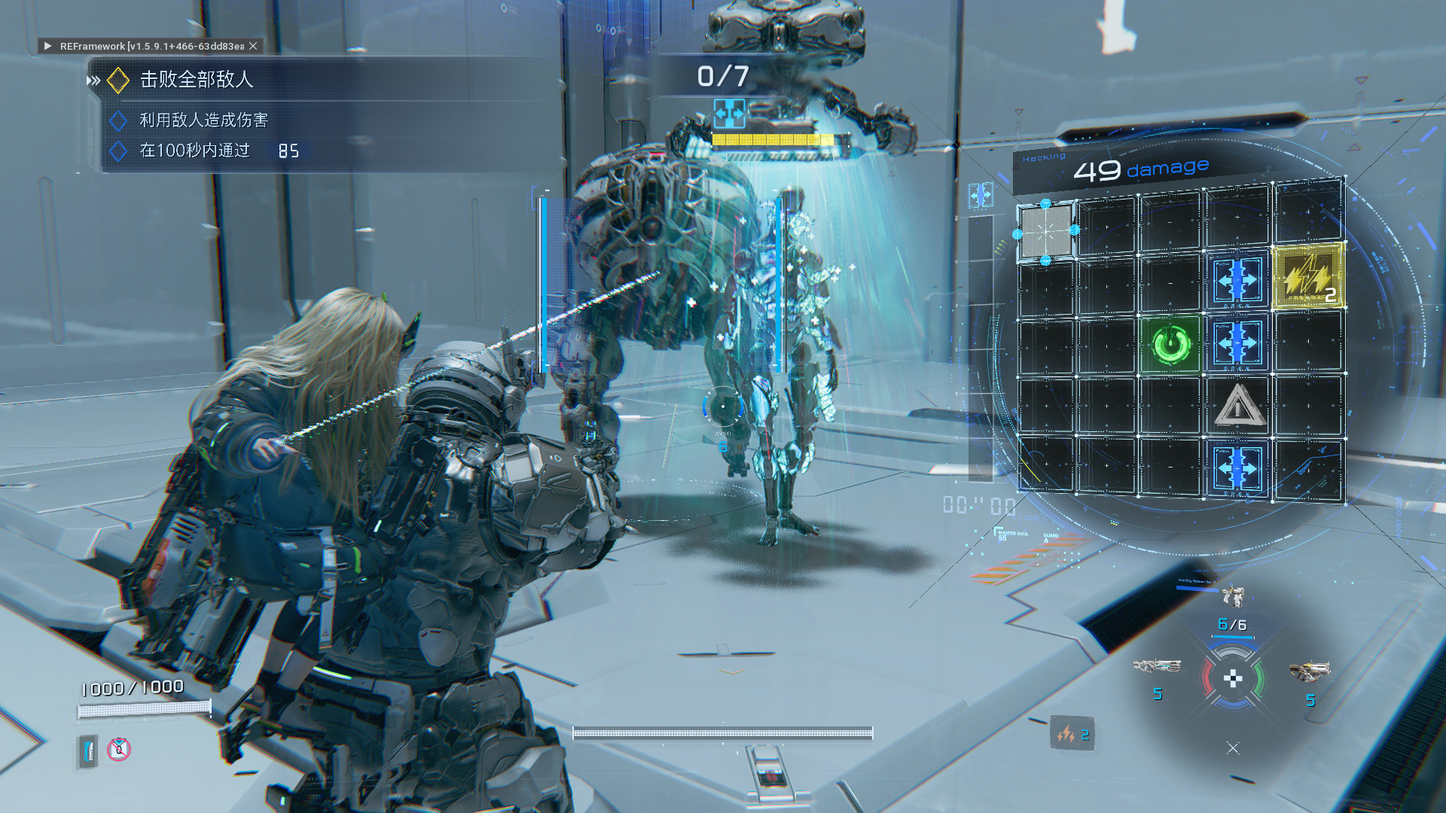puzzle_panel: (1013, 175, 1347, 506)
